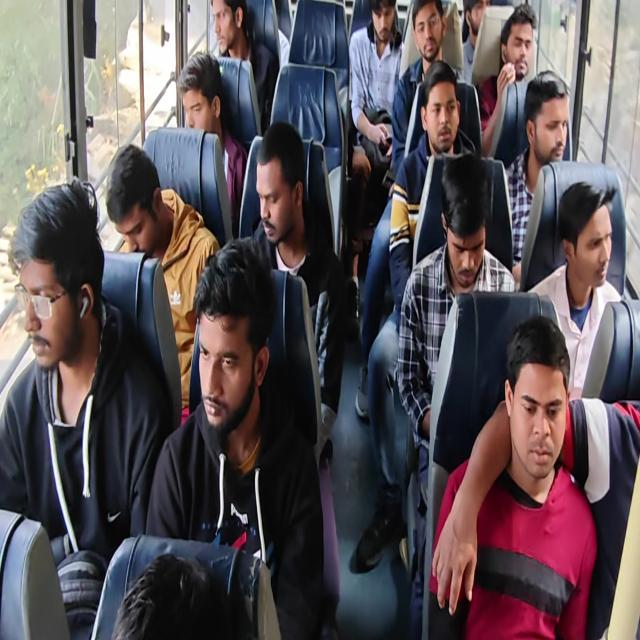person: (9, 171, 102, 385), (197, 235, 268, 434), (112, 540, 227, 640), (508, 311, 568, 487), (248, 116, 308, 258), (101, 131, 165, 264), (432, 147, 488, 284), (555, 170, 615, 296), (412, 50, 467, 157), (175, 50, 226, 136), (527, 64, 571, 162), (502, 2, 534, 84), (357, 0, 404, 52), (410, 4, 452, 62), (206, 1, 248, 54), (466, 0, 496, 40)
